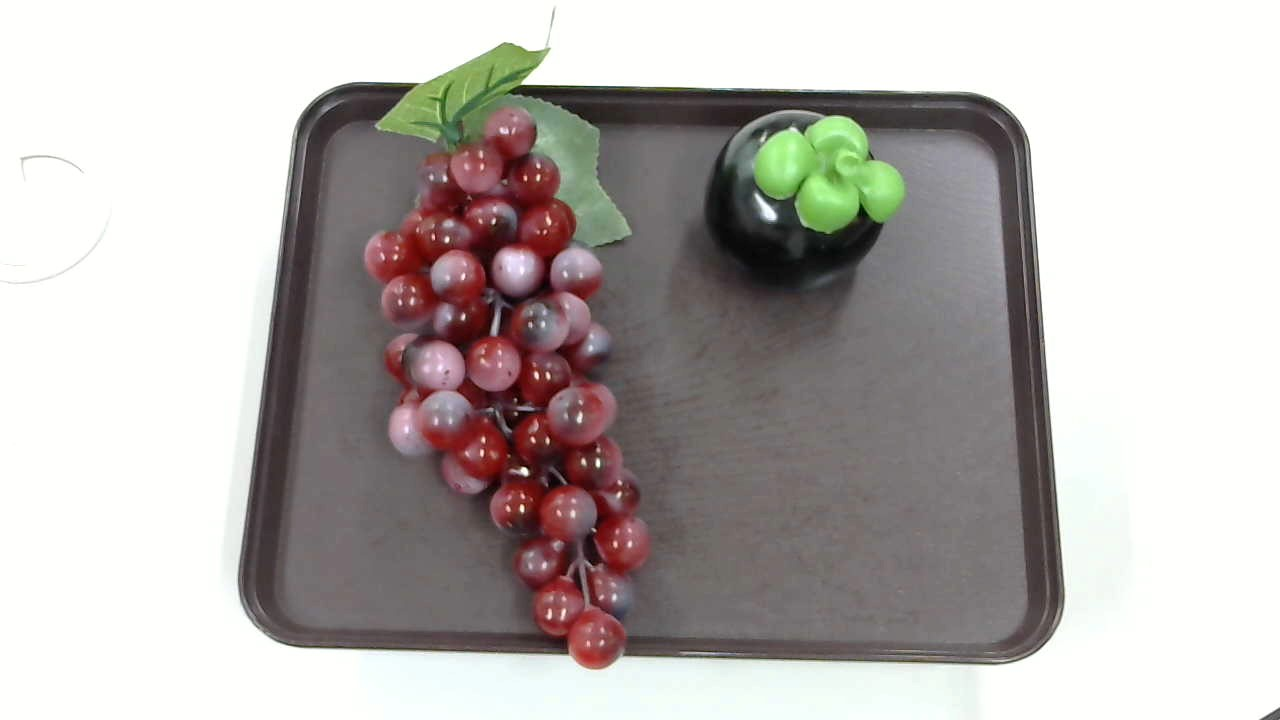grape: (364, 42, 666, 676)
mangosteen: (701, 100, 910, 283)
